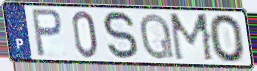0: (70, 9, 100, 60)
M: (168, 12, 216, 63)
O: (207, 13, 248, 65)
P: (29, 7, 65, 59)
Q: (138, 11, 177, 62)
S: (102, 10, 141, 62)
